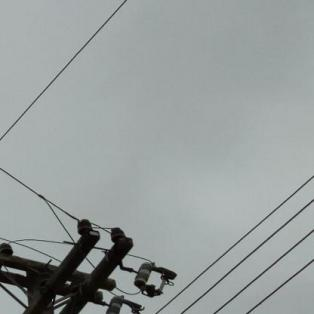Poste: (21, 254, 120, 314)
